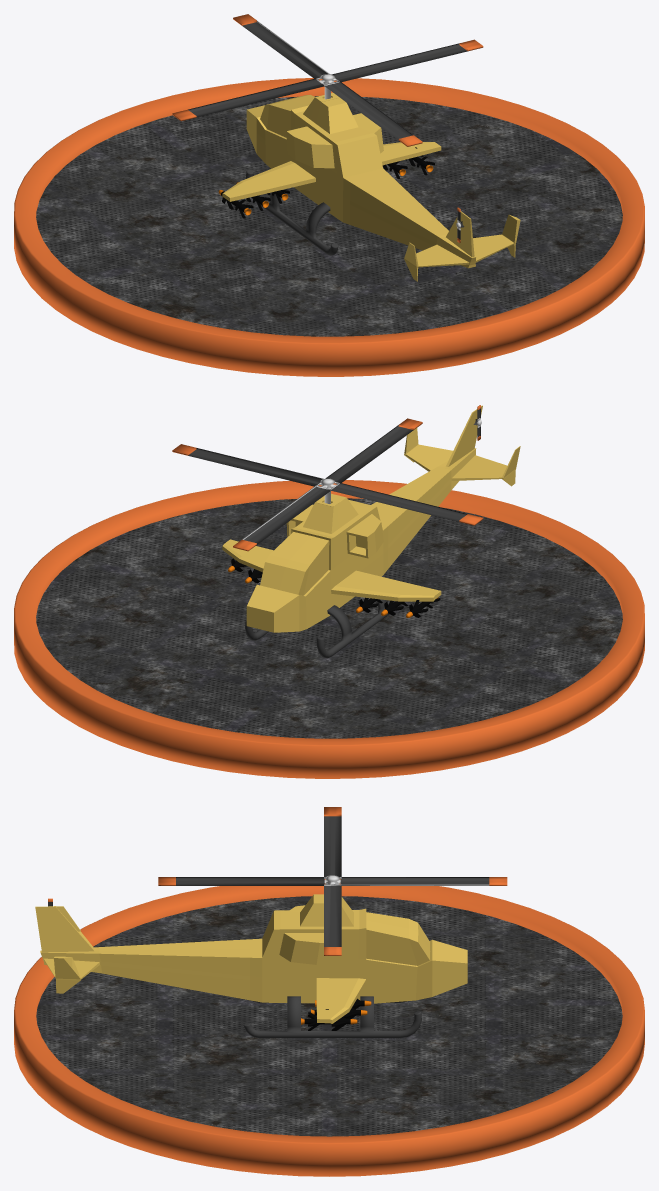
The model's file is helicopter.glb.
3 renders of one model, top to bottom at view 1: azimuth 30°, elevation 25°; view 2: azimuth 150°, elevation 25°; view 3: azimuth 270°, elevation 25°, orthographic.
Parts seen in each view (by area): view 1: Cylinder.001, helicopter body, Fan, Landingobj; view 2: Cylinder.001, helicopter body, Fan, Landingobj; view 3: Cylinder.001, helicopter body, Fan, Landingobj.
Part boxes in pixels (x1=…): Cylinder.001: x1=14, y1=78, x2=644, y2=376; helicopter body: x1=222, y1=93, x2=520, y2=281; Fan: x1=172, y1=14, x2=483, y2=146; Landingobj: x1=245, y1=169, x2=338, y2=255; Cylinder.001: x1=14, y1=480, x2=644, y2=778; helicopter body: x1=222, y1=405, x2=520, y2=632; Fan: x1=172, y1=418, x2=483, y2=551; Landingobj: x1=245, y1=599, x2=404, y2=658; Cylinder.001: x1=14, y1=879, x2=644, y2=1176; helicopter body: x1=35, y1=894, x2=467, y2=1023; Fan: x1=158, y1=807, x2=507, y2=955; Landingobj: x1=243, y1=996, x2=421, y2=1038.
Size of the model in its own units: 45.62 by 13.3 by 45.62.
8 materials, 1 textured.
